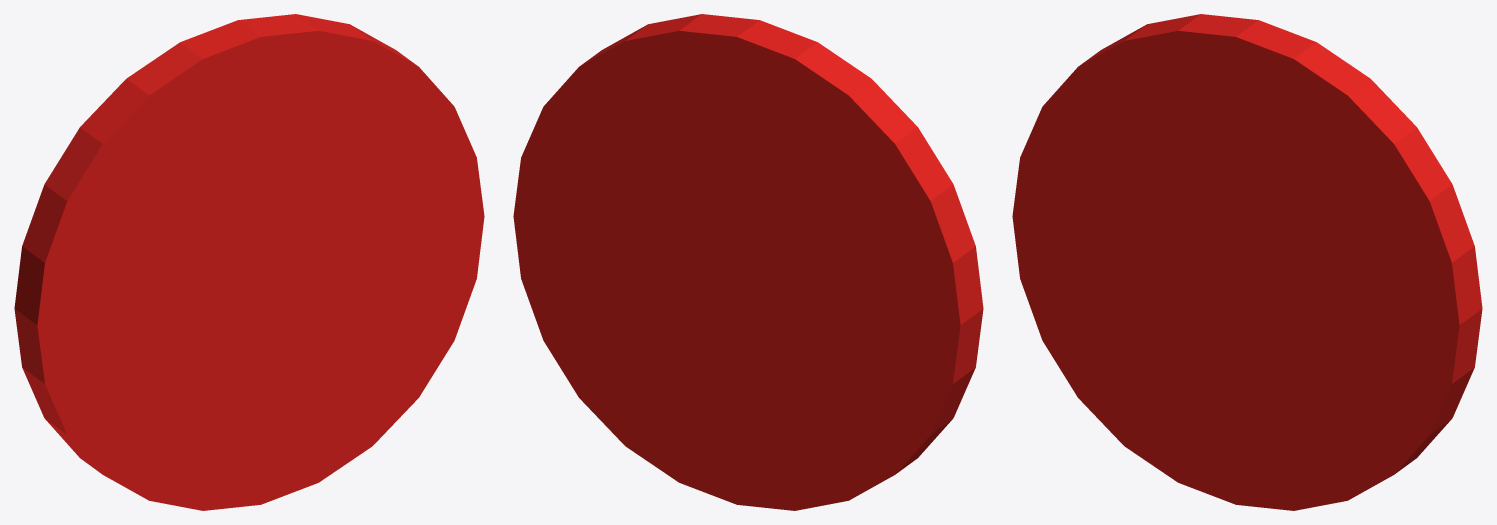
File: target3d.obj
The picture shows the model from 3 angles, left to right: view 1: azimuth 30°, elevation 25°; view 2: azimuth 150°, elevation 25°; view 3: azimuth 330°, elevation 25°; orthographic projection.
Bounding box in the file's own units: 0.9 × 0.9 × 0.08.
